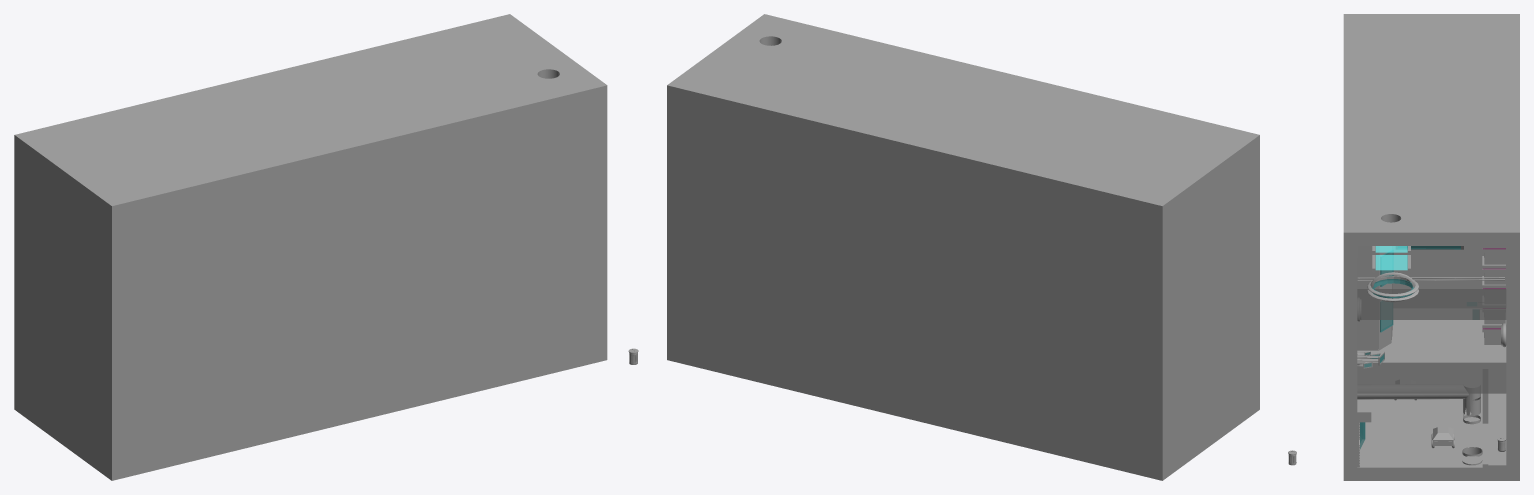
The model's file is WhiteBox_Meshes.fbx.
3 views of the same model, side by side, from view 1: azimuth 30°, elevation 25°; view 2: azimuth 150°, elevation 25°; view 3: azimuth 270°, elevation 25° (orthographic). The views are drawn at different scales.
Visible parts, largest first — view 1: Template, Template1; view 2: Template, Template1; view 3: Template, Template1, Sektion2, Sektion1, Building1, Sidewalk, Broken_Pipeline, Building2, Transport_Mech, Force_Field2, Sidewalk_Cover, CarPolice (+4 smaller).
Part boxes in pixels (x1=…): Template: x1=14, y1=14, x2=607, y2=480; Template1: x1=136, y1=14, x2=604, y2=176; Template: x1=667, y1=14, x2=1259, y2=480; Template1: x1=667, y1=14, x2=1137, y2=450; Template: x1=1343, y1=14, x2=1519, y2=480; Template1: x1=1343, y1=67, x2=1519, y2=466; Sektion2: x1=1357, y1=362, x2=1506, y2=393; Sektion1: x1=1357, y1=289, x2=1506, y2=319; Building1: x1=1357, y1=246, x2=1393, y2=350; Sidewalk: x1=1482, y1=332, x2=1506, y2=467; Broken_Pipeline: x1=1357, y1=381, x2=1482, y2=456; Building2: x1=1482, y1=246, x2=1505, y2=344; Transport_Mech: x1=1357, y1=272, x2=1504, y2=301; Force_Field2: x1=1372, y1=255, x2=1410, y2=272; Sidewalk_Cover: x1=1357, y1=358, x2=1371, y2=422; CarPolice: x1=1431, y1=427, x2=1454, y2=448.
Bounding box in the file's own units: 76.74 × 40.43 × 34.19.
